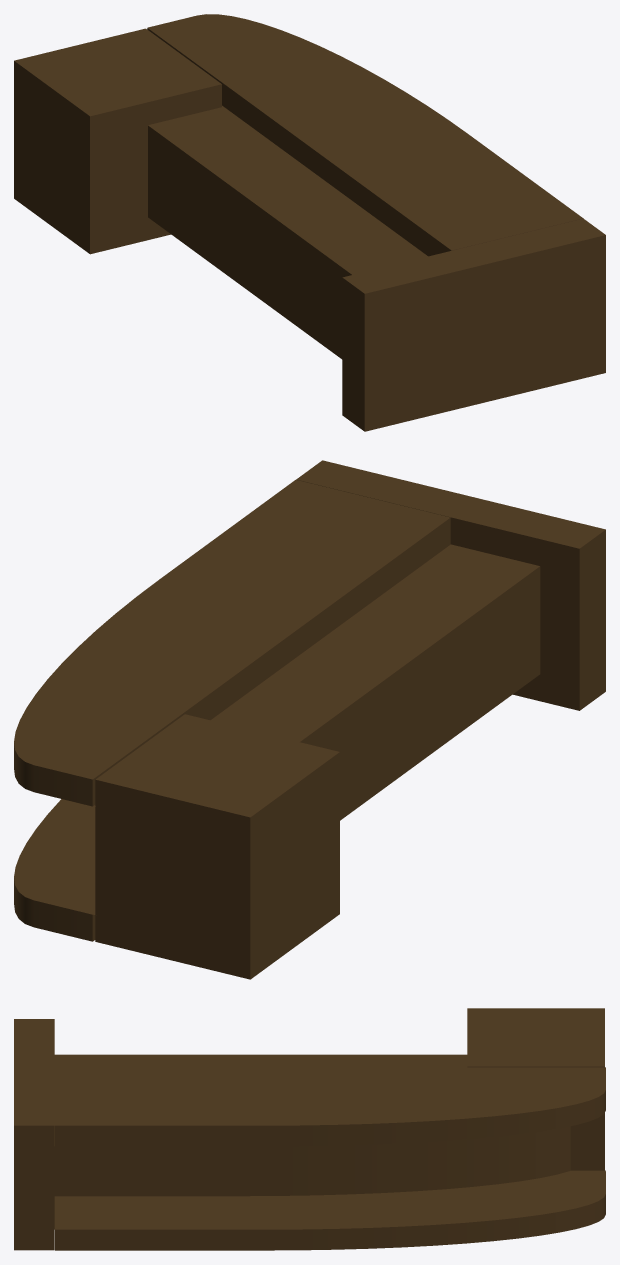
The model's file is CashierDesk.gltf.
3 renders of one model, top to bottom at view 1: azimuth 30°, elevation 25°; view 2: azimuth 150°, elevation 25°; view 3: azimuth 270°, elevation 25°, orthographic. The views are drawn at different scales.
Visible parts, largest first — view 1: Cube; view 2: Cube; view 3: Cube.
Part boxes in pixels (left/top/right/bottom): Cube: left=14, top=14, right=605, bottom=431; Cube: left=14, top=460, right=605, bottom=979; Cube: left=14, top=1008, right=605, bottom=1250.
Size of the model in its own units: 3.02 by 1.5 by 6.45.
